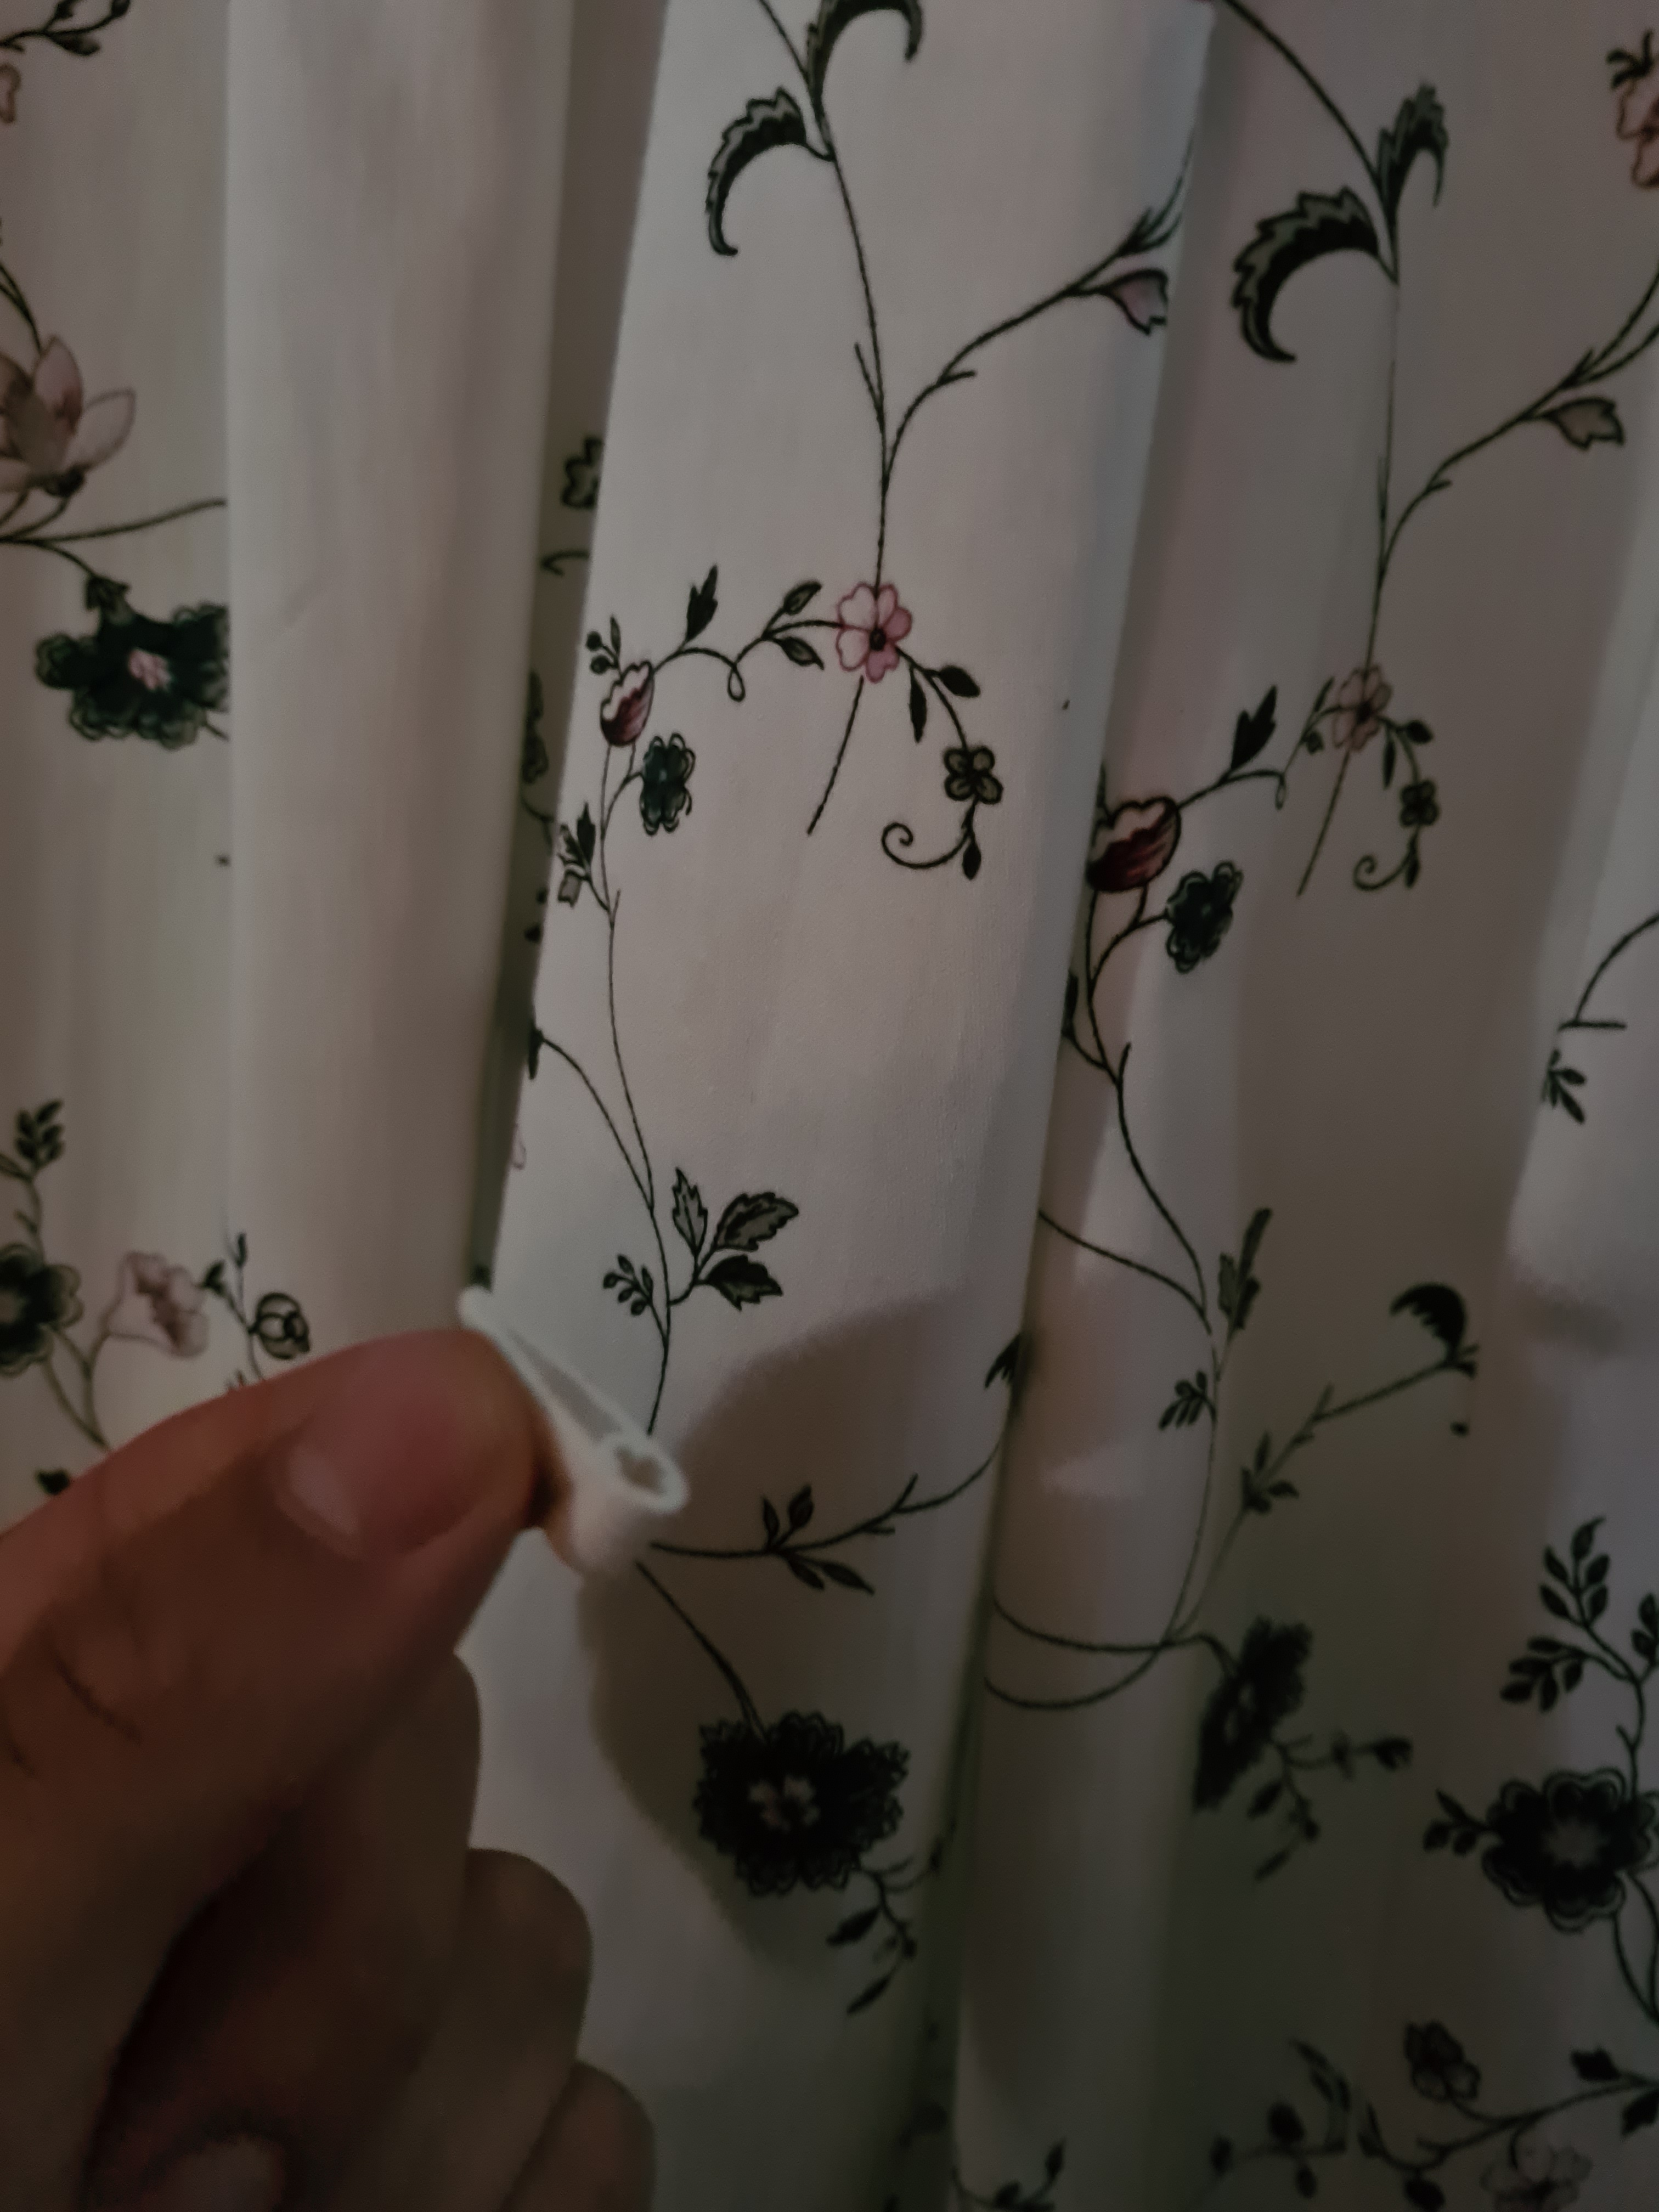Kappe: (427, 1226, 730, 1604)
